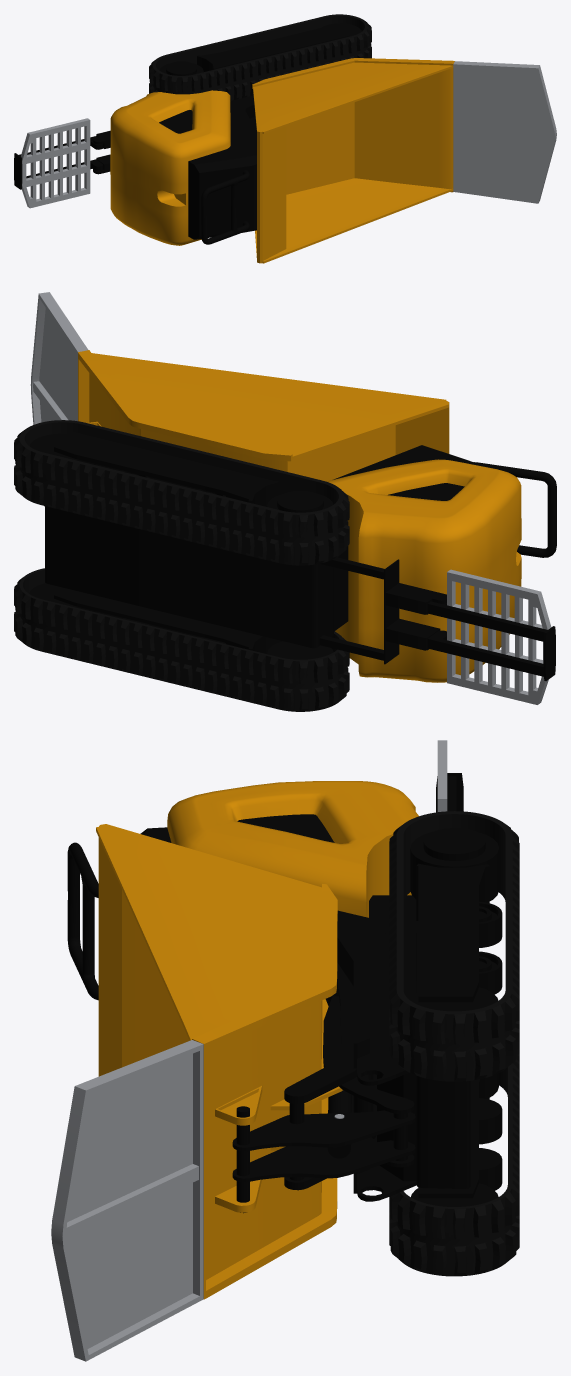
File: dumper.obj
3 views of the same model, one above another, from view 1: azimuth 30°, elevation 25°; view 2: azimuth 150°, elevation 25°; view 3: azimuth 270°, elevation 25° (orthographic). The views are drawn at different scales.
Visible parts, largest first — view 1: dumper; view 2: dumper; view 3: dumper.
Part boxes in pixels (x1,y1,x2,y2): dumper: (14, 14, 556, 263); dumper: (14, 292, 556, 711); dumper: (51, 740, 519, 1361).
Bounding box in the file's own units: 3.15 × 0.9226 × 1.45.
